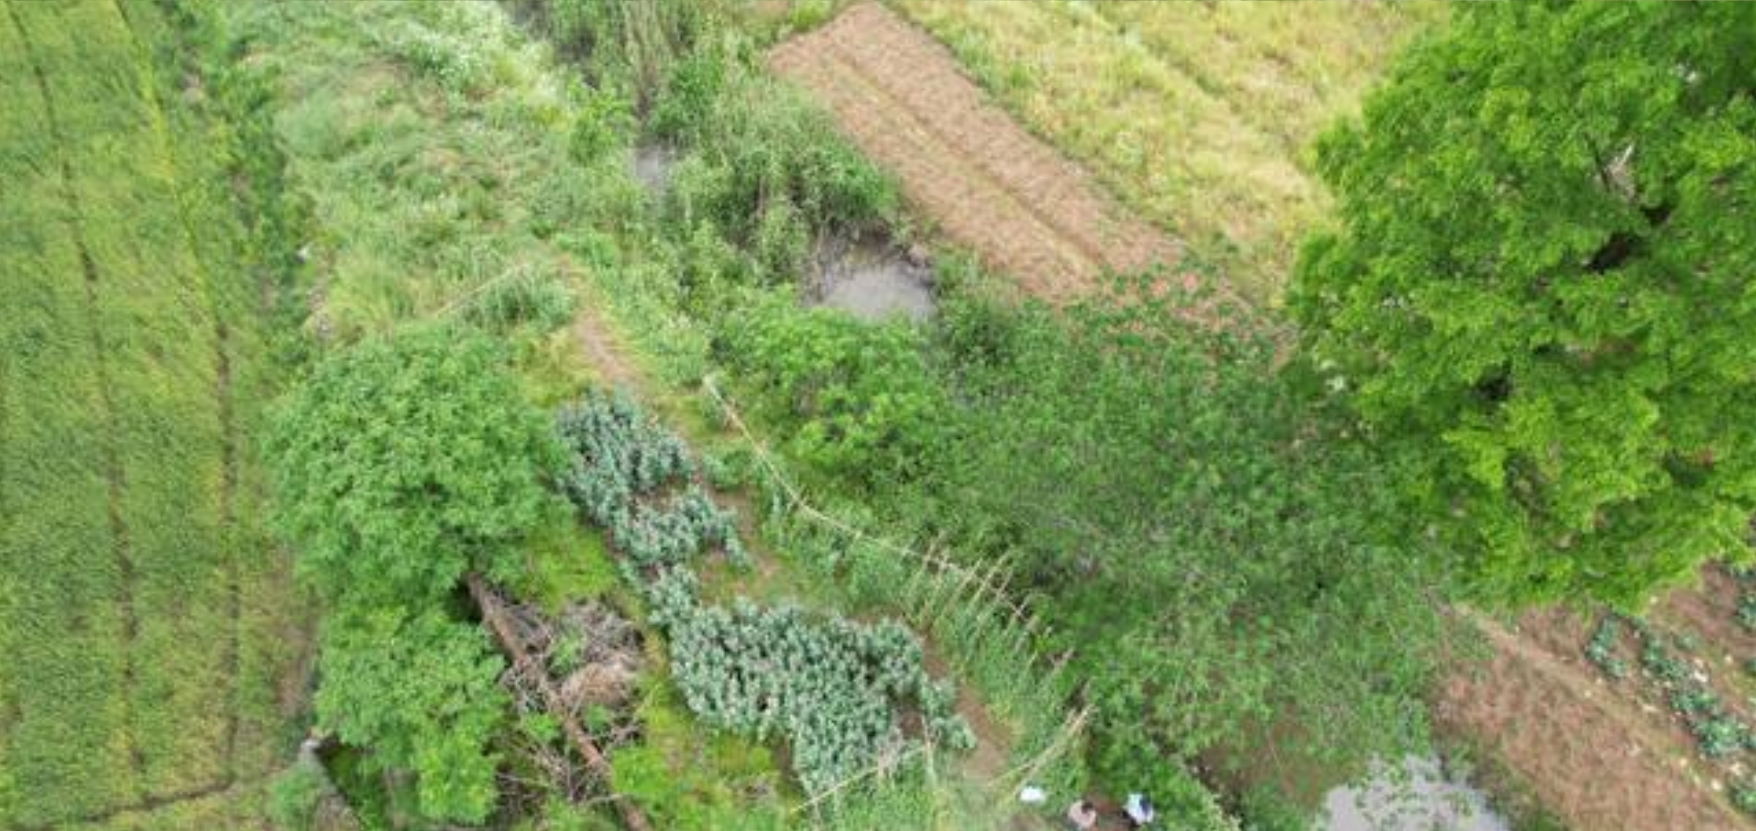Poppy: (631, 562, 979, 771), (544, 376, 748, 567)
